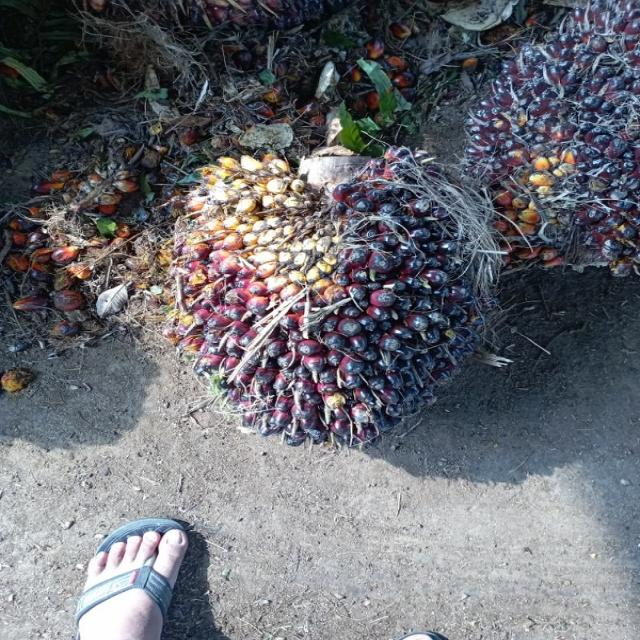fraksi 00: (449, 0, 640, 277)
fraksi 1: (167, 157, 493, 451)
